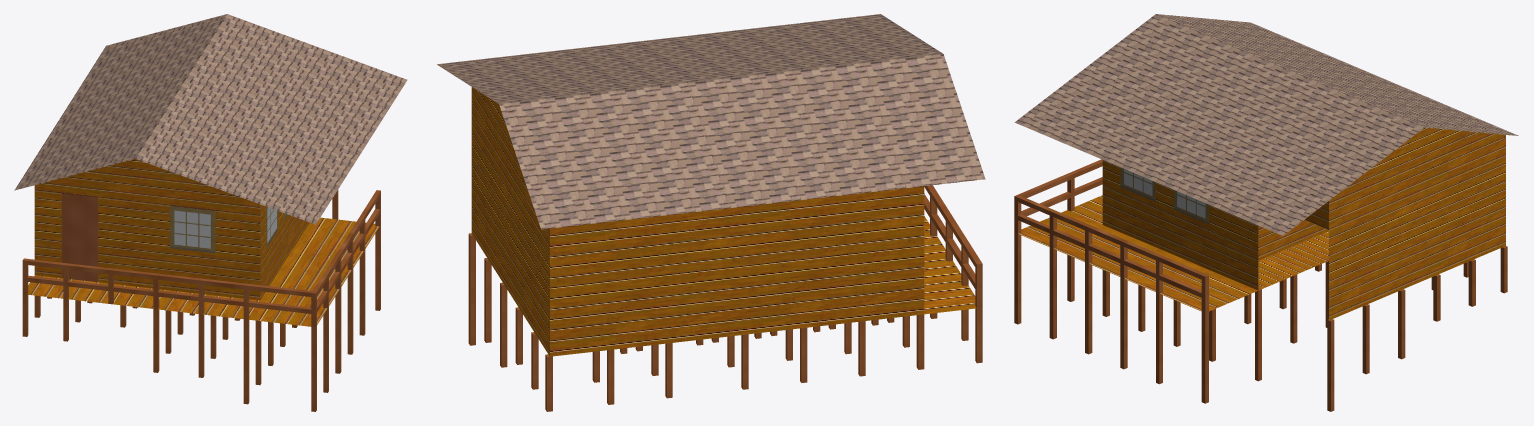
Rendered from GMLID_BUI130363_1235_6047.dae.
The picture shows the model from 3 angles, left to right: view 1: azimuth 30°, elevation 25°; view 2: azimuth 150°, elevation 25°; view 3: azimuth 270°, elevation 25°; orthographic projection. The views are drawn at different scales.
Bounding box in the file's own units: 15.15 × 15.15 × 8.25.
Materials: 5 (4 with a texture image).
